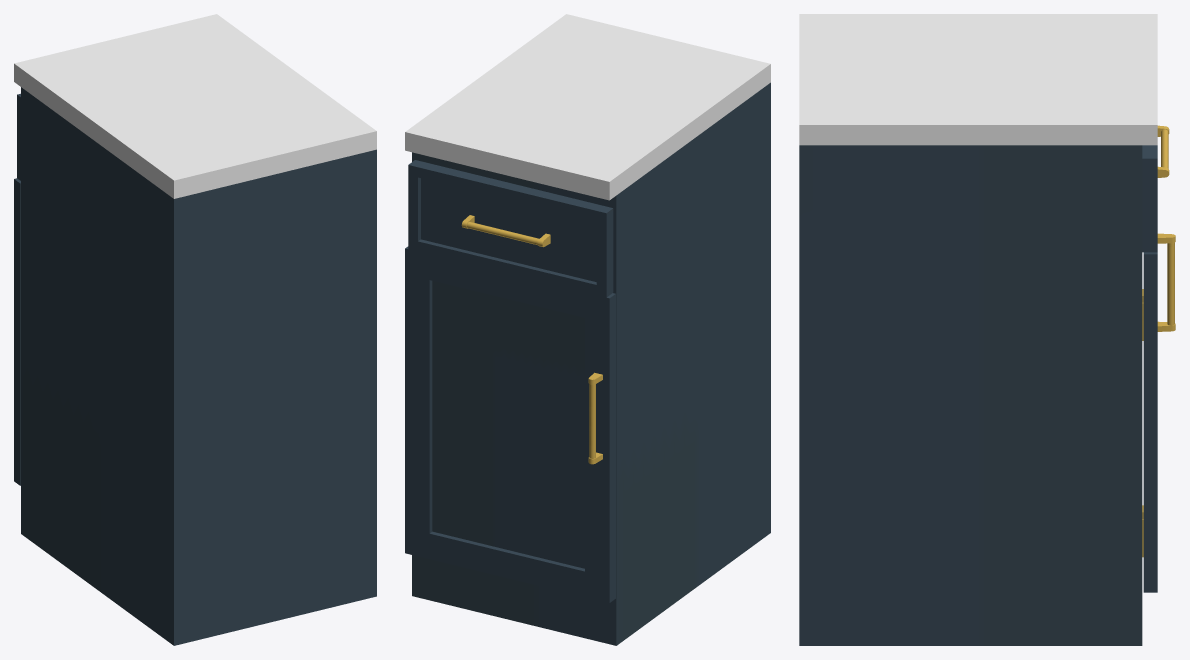
The model's file is CabinetA04.glb.
The picture shows the model from 3 angles, left to right: view 1: azimuth 30°, elevation 25°; view 2: azimuth 150°, elevation 25°; view 3: azimuth 270°, elevation 25°; orthographic projection. The views are drawn at different scales.
Parts seen in each view (by area): view 1: CabinetA04_model, CabinetA04Door; view 2: CabinetA04_model, CabinetA04Door, CabinetA04Drawer01; view 3: CabinetA04_model, CabinetA04Door, CabinetA04Drawer01.
Boxes of the visible parts, left/top/right/bottom form: CabinetA04_model: left=14, top=14, right=376, bottom=645; CabinetA04Door: left=14, top=178, right=20, bottom=485; CabinetA04_model: left=405, top=14, right=770, bottom=645; CabinetA04Door: left=405, top=246, right=615, bottom=602; CabinetA04Drawer01: left=408, top=160, right=613, bottom=297; CabinetA04_model: left=799, top=14, right=1157, bottom=645; CabinetA04Door: left=1142, top=233, right=1175, bottom=592; CabinetA04Drawer01: left=1142, top=125, right=1169, bottom=252.
Size of the model in its own units: 0.9256 by 2.02 by 1.32.
Materials: 1 (1 with a texture image).
